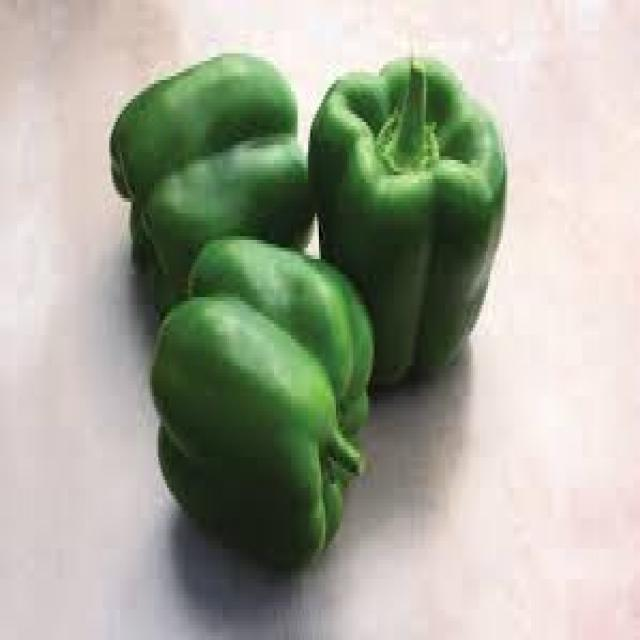Pepper: (149, 238, 374, 571), (307, 58, 508, 394), (112, 68, 314, 299)
